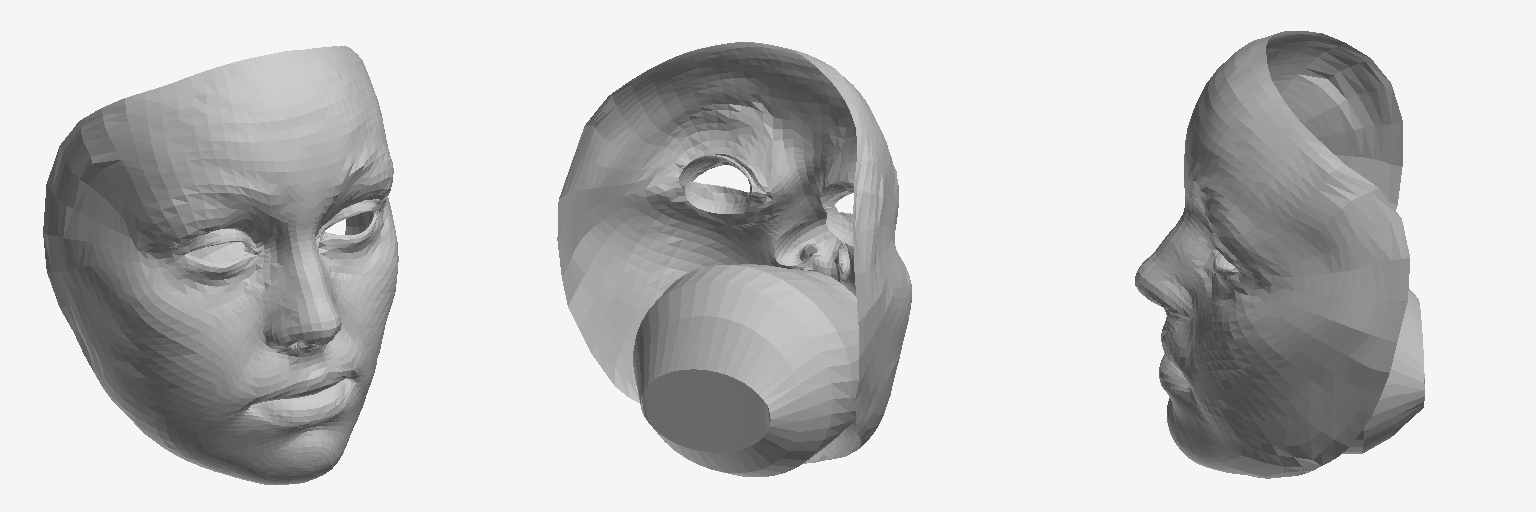
File: Brow_raise.obj
3 views of the same model, side by side, from view 1: azimuth 30°, elevation 25°; view 2: azimuth 150°, elevation 25°; view 3: azimuth 270°, elevation 25° (orthographic).
Visible parts, largest first — view 1: face geoGroup Emily; view 2: face geoGroup Emily; view 3: face geoGroup Emily.
Part boxes in pixels (x1,y1,x2,y2): face geoGroup Emily: (43,46,398,484); face geoGroup Emily: (557,42,911,476); face geoGroup Emily: (1135,31,1424,478).
Bounding box in the file's own units: 14.27 × 18.38 × 11.78.